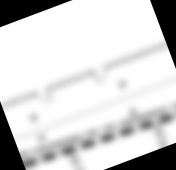door: (34, 85, 54, 107), (91, 64, 111, 85)
